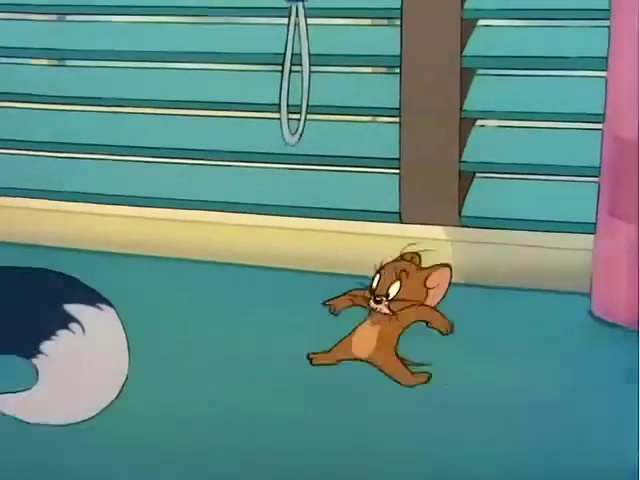jerry: (265, 237, 474, 403)
